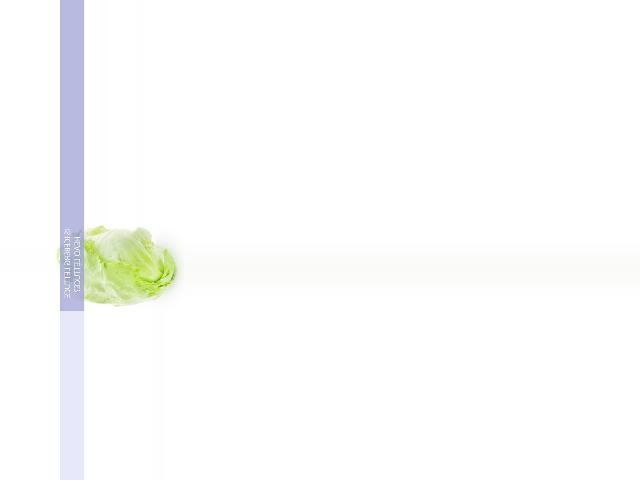lettuce: (56, 225, 181, 303)
